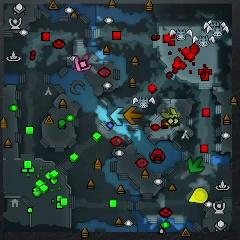p4: (188, 187, 209, 203)
x1: (75, 55, 91, 72)
x2: (162, 108, 177, 124)
x3: (109, 108, 125, 126)
x4: (187, 156, 205, 173)
x5: (123, 106, 142, 125)
